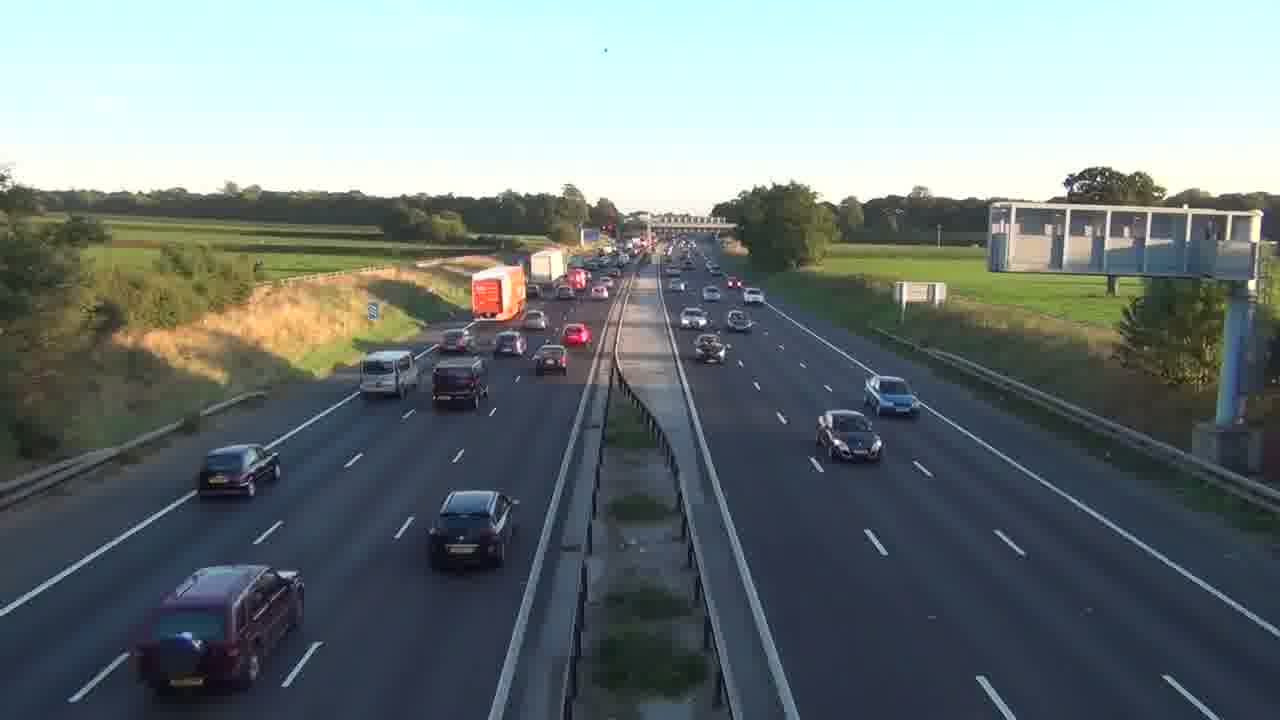car: (426, 488, 518, 571), (815, 408, 885, 463), (863, 374, 917, 416), (533, 342, 568, 376), (694, 333, 726, 364), (560, 322, 592, 348), (680, 306, 709, 329), (726, 308, 753, 332)
truck: (126, 562, 307, 696), (196, 443, 281, 500), (359, 348, 417, 399)
